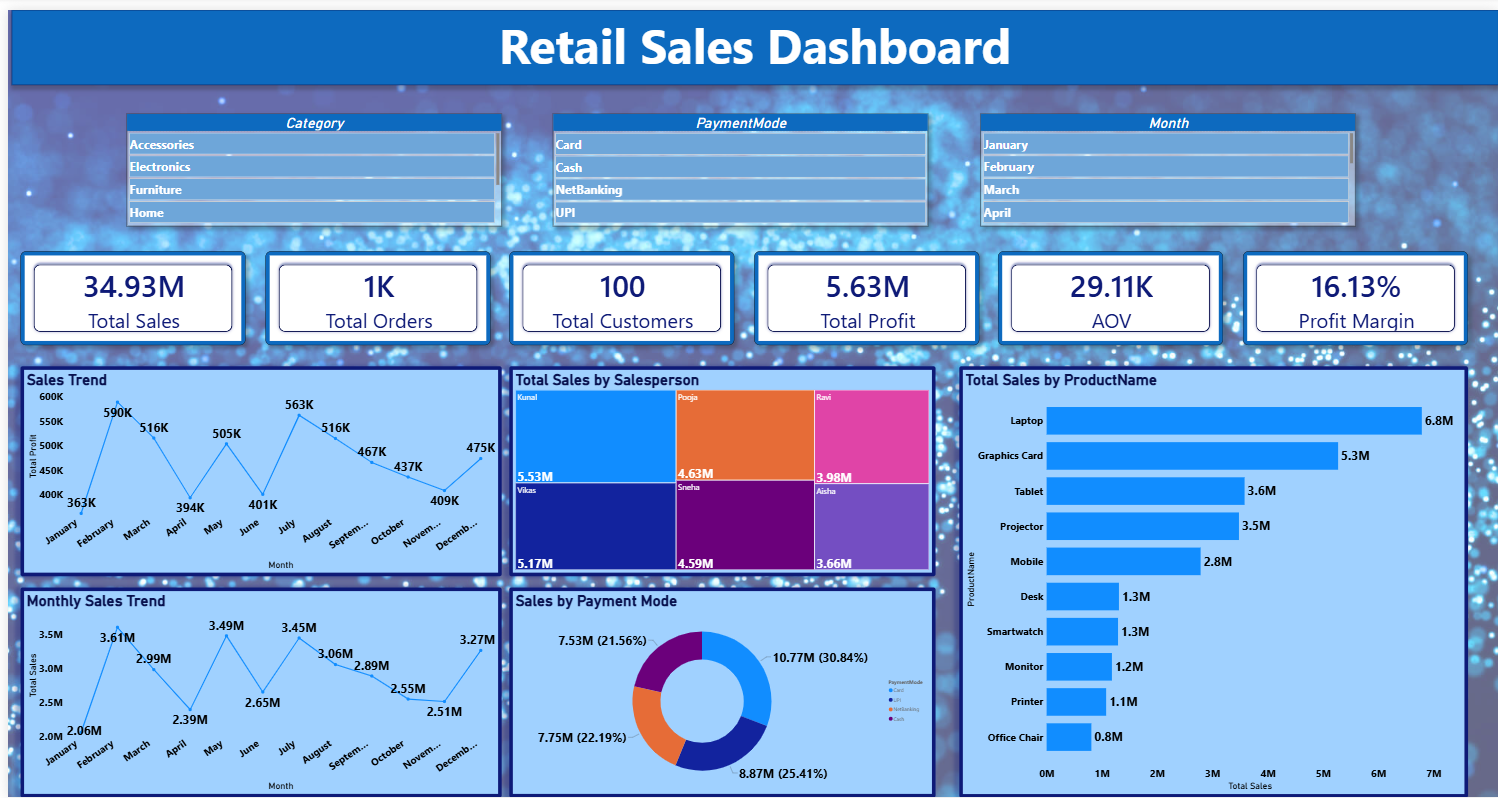

The page's visual inventory and layout, read from the dashboard file:
{"tool":"powerbi","page":{"name":"Page 1","canvas":[3975,2100],"ordinal":0},"visuals":[{"type":"textbox","box":[10,0,3965,200],"z":0},{"type":"cardVisual","fields":{"Data":["Orders.Total Sales"]},"box":[33.3,643.3,600,250],"z":1000},{"type":"cardVisual","fields":{"Data":["Orders.Profit Margin"]},"box":[3293.3,643.3,600,250],"z":2000},{"type":"cardVisual","fields":{"Data":["Orders.AOV"]},"box":[2641.3,643.3,600,250],"z":3000},{"type":"cardVisual","fields":{"Data":["Orders.Total Orders"]},"box":[685.3,643.3,600,250],"z":4000},{"type":"cardVisual","fields":{"Data":["Orders.Total Profit"]},"box":[1989.3,643.3,600,250],"z":5000},{"type":"cardVisual","fields":{"Data":["Orders.Total Customers"]},"box":[1337.3,643.3,600,250],"z":6000},{"type":"donutChart","title":"Sales by Payment Mode","fields":{"Category":["Orders.PaymentMode"],"Y":["Orders.Total Sales"]},"box":[1336.7,1540,1136.7,560],"z":7000},{"type":"lineChart","title":"Monthly Sales Trend","fields":{"Category":["Date Table.Date.Variation.Date Hierarchy.Month"],"Y":["Orders.Total Sales"]},"box":[33.3,1540,1283.3,560],"z":8000},{"type":"clusteredBarChart","fields":{"Category":["Products.ProductName"],"Y":["Orders.Total Sales"]},"box":[2536.7,950,1356.7,1150],"z":9000},{"type":"treemap","fields":{"Values":["Orders.Total Sales"],"Group":["Orders.Salesperson"]},"box":[1336.7,950,1136.7,560],"z":10000},{"type":"lineChart","title":"Sales Trend","fields":{"Category":["Date Table.Date.Variation.Date Hierarchy.Month"],"Y":["Orders.Total Profit"]},"box":[33.3,950,1283.3,560],"z":11000},{"type":"listSlicer","fields":{"Values":["Date Table.Date.Variation.Date Hierarchy.Month"]},"box":[2592.7,278,1000,300],"z":12000},{"type":"listSlicer","fields":{"Values":["Orders.PaymentMode"]},"box":[1454.3,278,1000,300],"z":13000},{"type":"listSlicer","fields":{"Values":["Products.Category"]},"box":[316,278,1000,300],"z":14000}]}

Visuals, with their boxes in screenshot pixels (x1, y1, x2, y2), scaled from the page's 3975x2100 canvas onto the 1498x798 screenshot:
textbox: x1=4, y1=0, x2=1497, y2=76
cardVisual - Orders.Total Sales: x1=13, y1=244, x2=239, y2=339
cardVisual - Orders.Profit Margin: x1=1241, y1=244, x2=1467, y2=339
cardVisual - Orders.AOV: x1=995, y1=244, x2=1222, y2=339
cardVisual - Orders.Total Orders: x1=258, y1=244, x2=484, y2=339
cardVisual - Orders.Total Profit: x1=750, y1=244, x2=976, y2=339
cardVisual - Orders.Total Customers: x1=504, y1=244, x2=730, y2=339
"Sales by Payment Mode" donutChart: x1=504, y1=585, x2=932, y2=797
"Monthly Sales Trend" lineChart: x1=13, y1=585, x2=496, y2=797
clusteredBarChart - Products.ProductName x Orders.Total Sales: x1=956, y1=361, x2=1467, y2=797
treemap - Orders.Total Sales x Orders.Salesperson: x1=504, y1=361, x2=932, y2=574
"Sales Trend" lineChart: x1=13, y1=361, x2=496, y2=574
listSlicer - Date Table.Date.Variation.Date Hierarchy.Month: x1=977, y1=106, x2=1354, y2=220
listSlicer - Orders.PaymentMode: x1=548, y1=106, x2=925, y2=220
listSlicer - Products.Category: x1=119, y1=106, x2=496, y2=220
